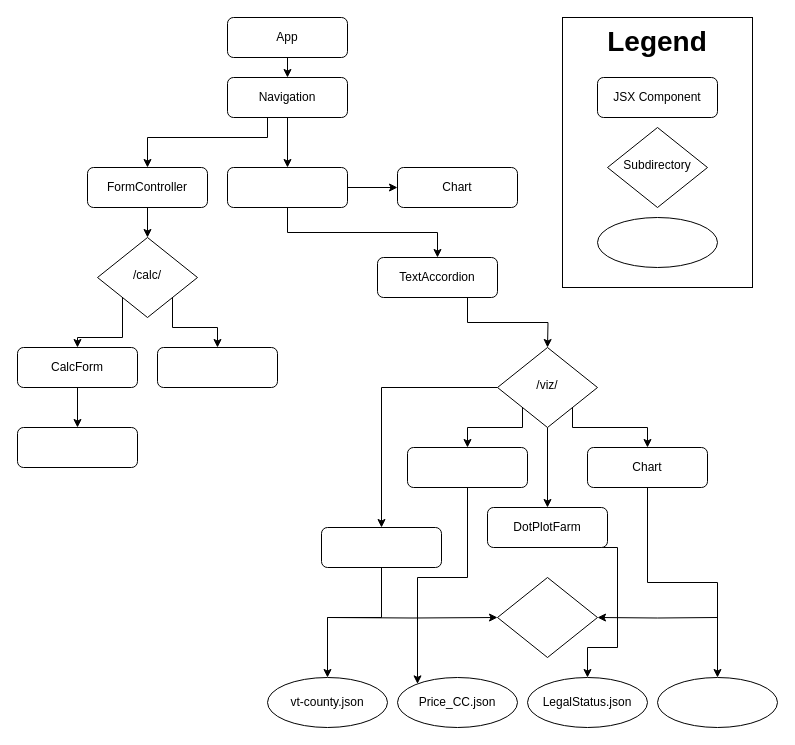
Image size: 795x745. Some labels were removed from this diagram. The centre of each missing label's shape, as x and y in pixels:
/data/: (547,617)
altmethods.json: (717,702)
Calculator: (217,367)
CountyMap: (381,547)
Data File: (657,242)
DDSelect: (77,447)
Home: (287,187)
PriceChart: (467,467)
